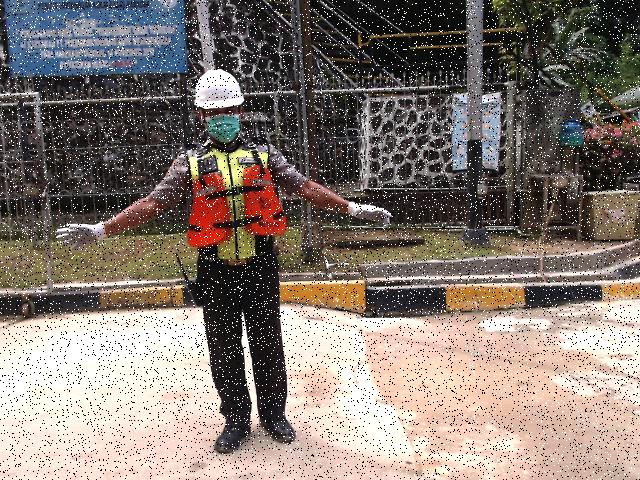gloves: (53, 218, 109, 254), (345, 200, 396, 233)
helmet: (191, 65, 246, 107)
mask: (206, 114, 241, 143)
safety-shoes: (211, 415, 253, 457), (254, 407, 298, 445)
vest: (184, 164, 285, 248)
